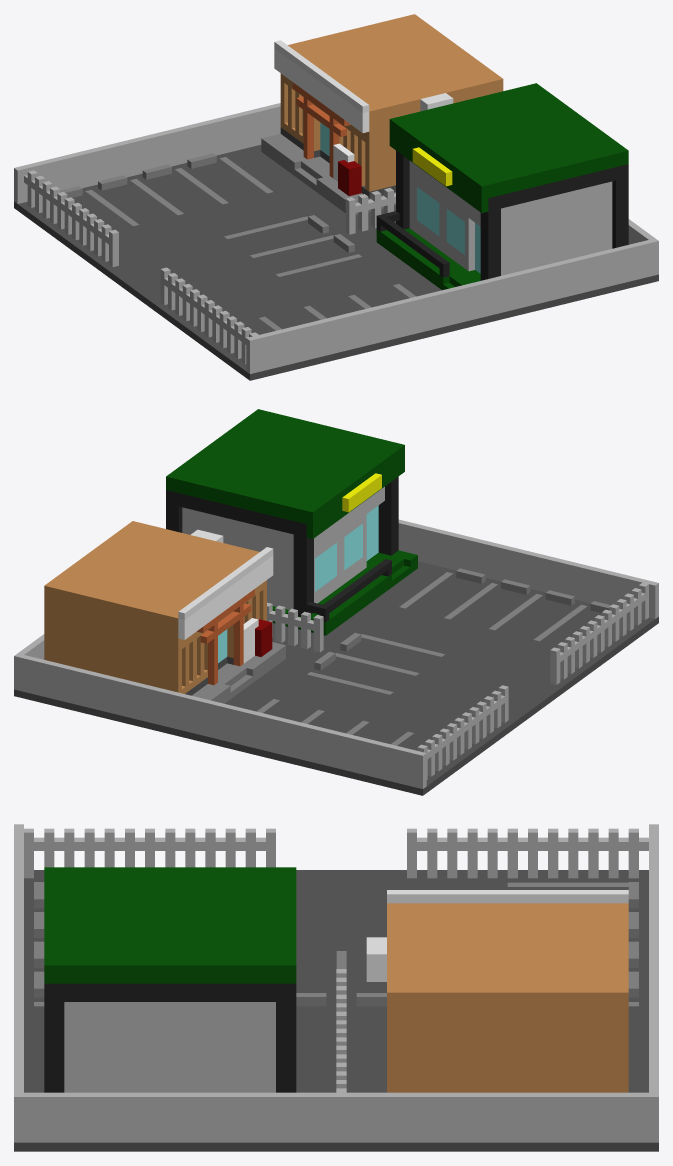
The model's file is shop-4.obj.
3 renders of one model, top to bottom at view 1: azimuth 30°, elevation 25°; view 2: azimuth 150°, elevation 25°; view 3: azimuth 270°, elevation 25°, orthographic. The views are drawn at different scales.
Size of the model in its own units: 6.4 by 1.9 by 6.4.
1 material, 1 textured.
